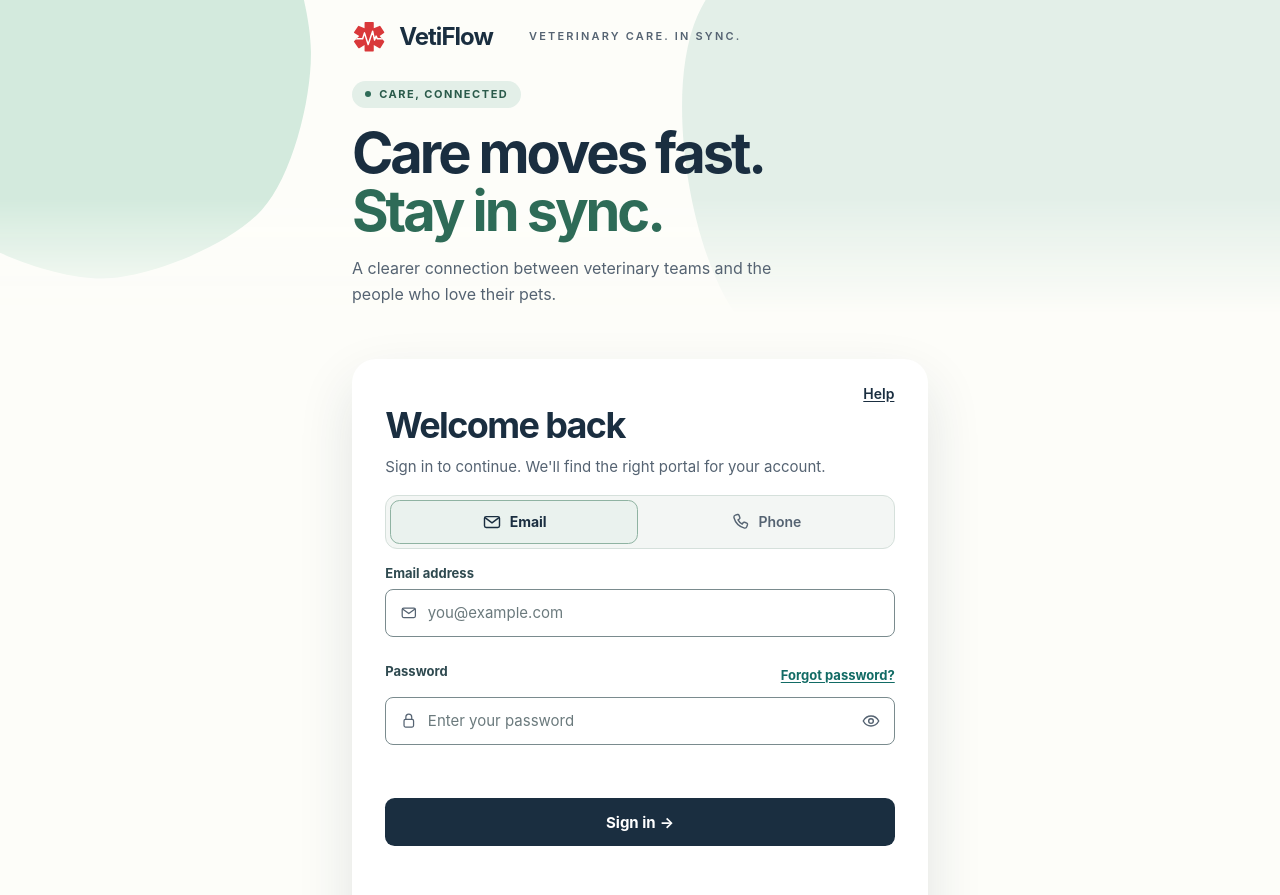
it: SignInPage › shows the demo message for wrongPassword
This screenshot has width=1280, height=895.
Step 1. Type "team@vetiflow.demo" into the field labelled "Email address" → (640, 613), box [385,589,895,637]
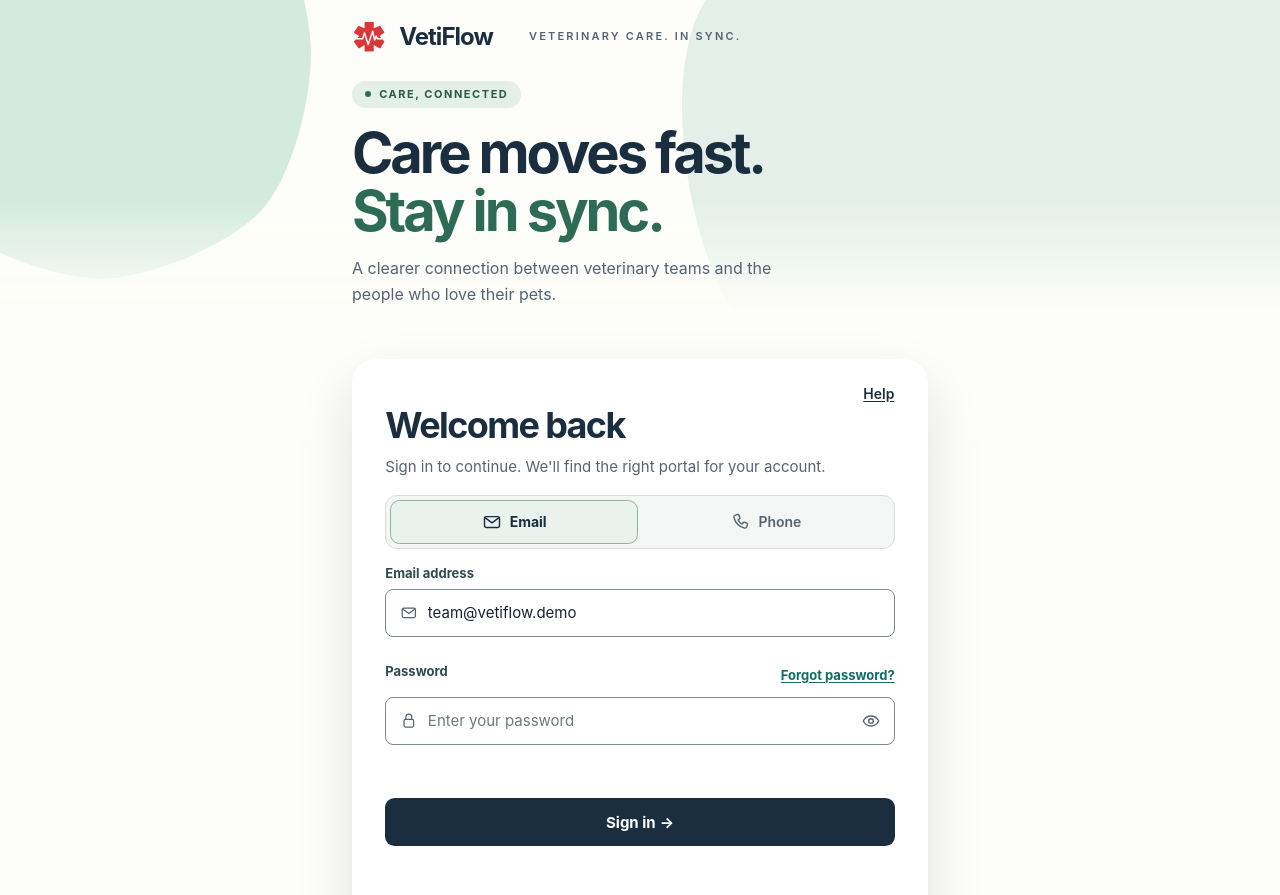
Step 2. Type "welcome1" into the password field labelled "Password" → (640, 721), box [385,697,895,745]
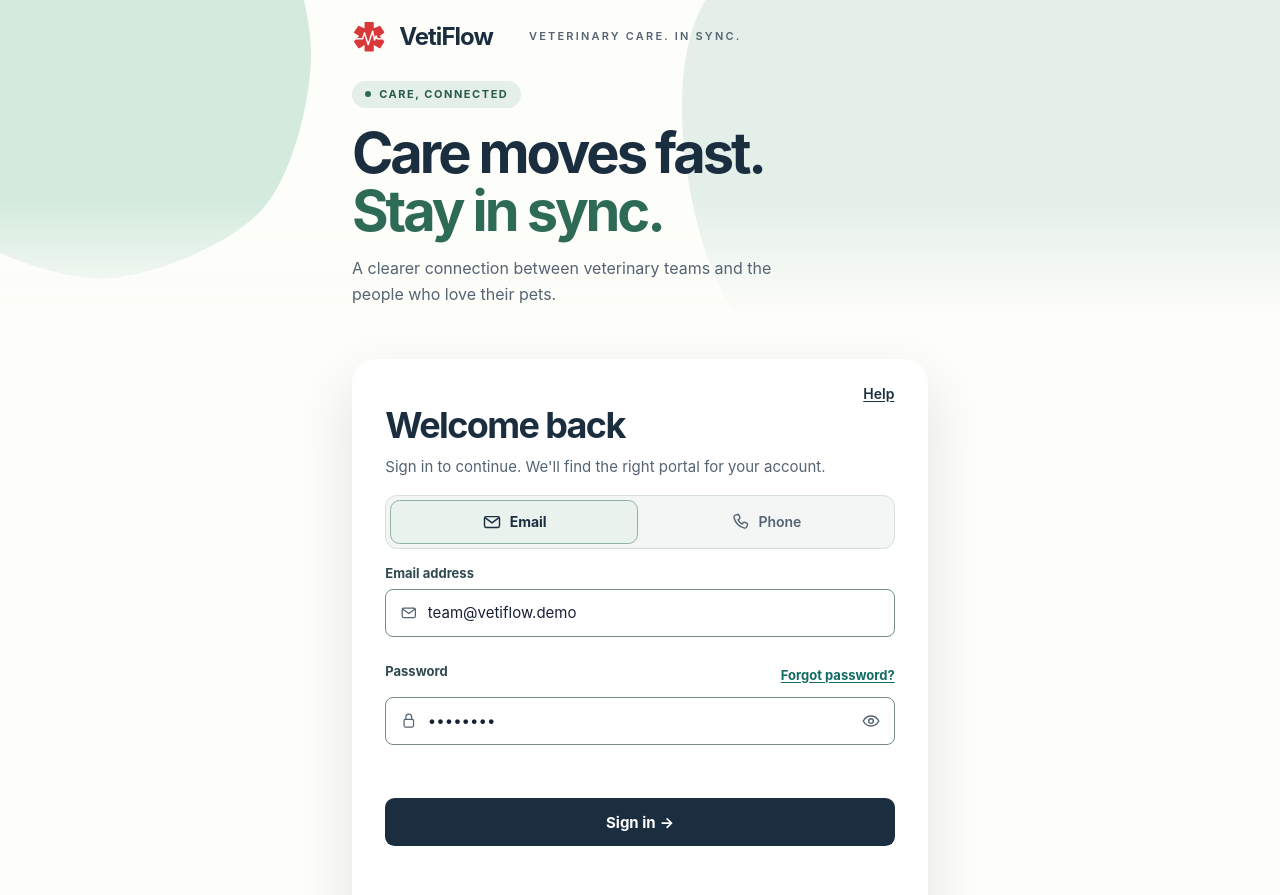
Step 3. Click the button "Sign in →" → click(640, 822), box [385,798,895,846]
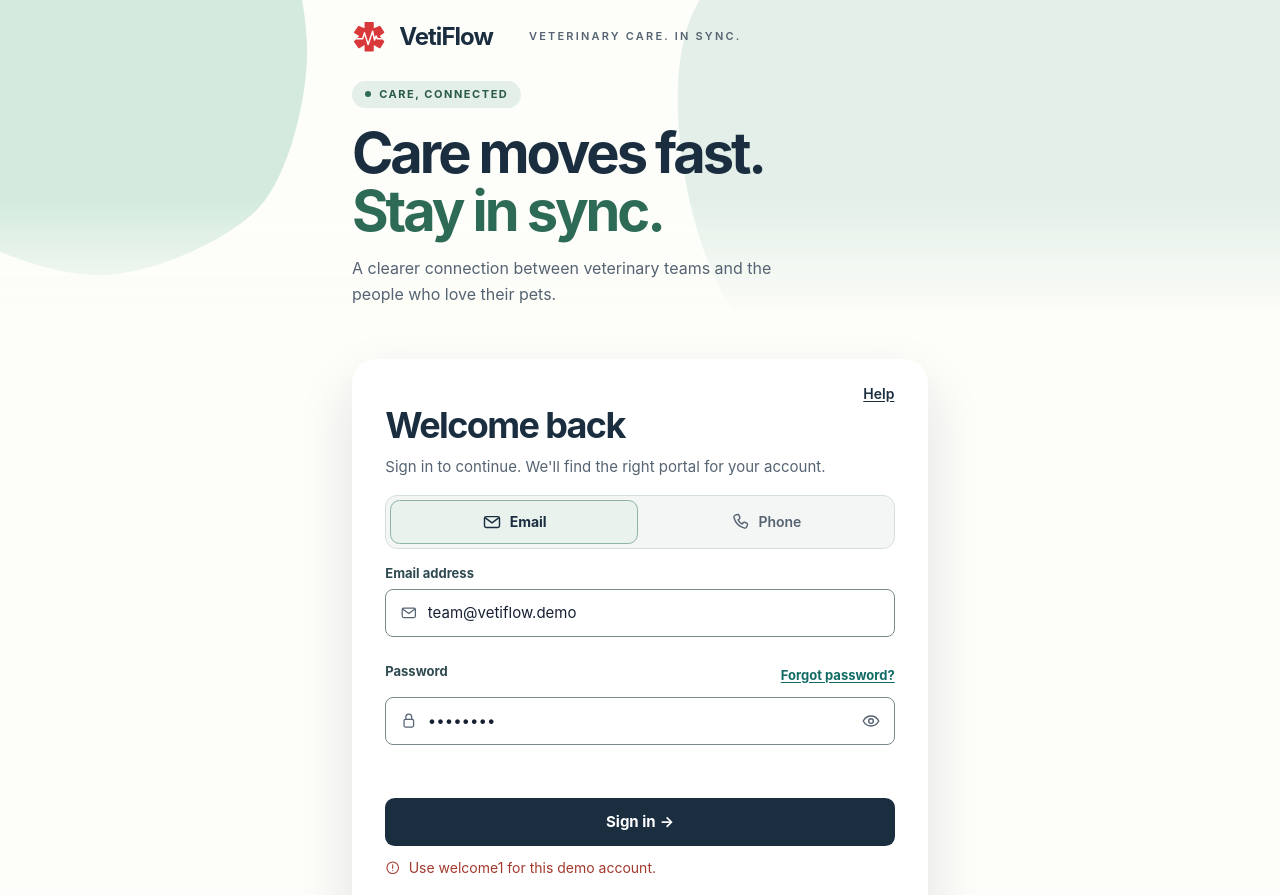
Check: the message reads "Use welcome1 for this demo account.", box [409,859,656,876]
